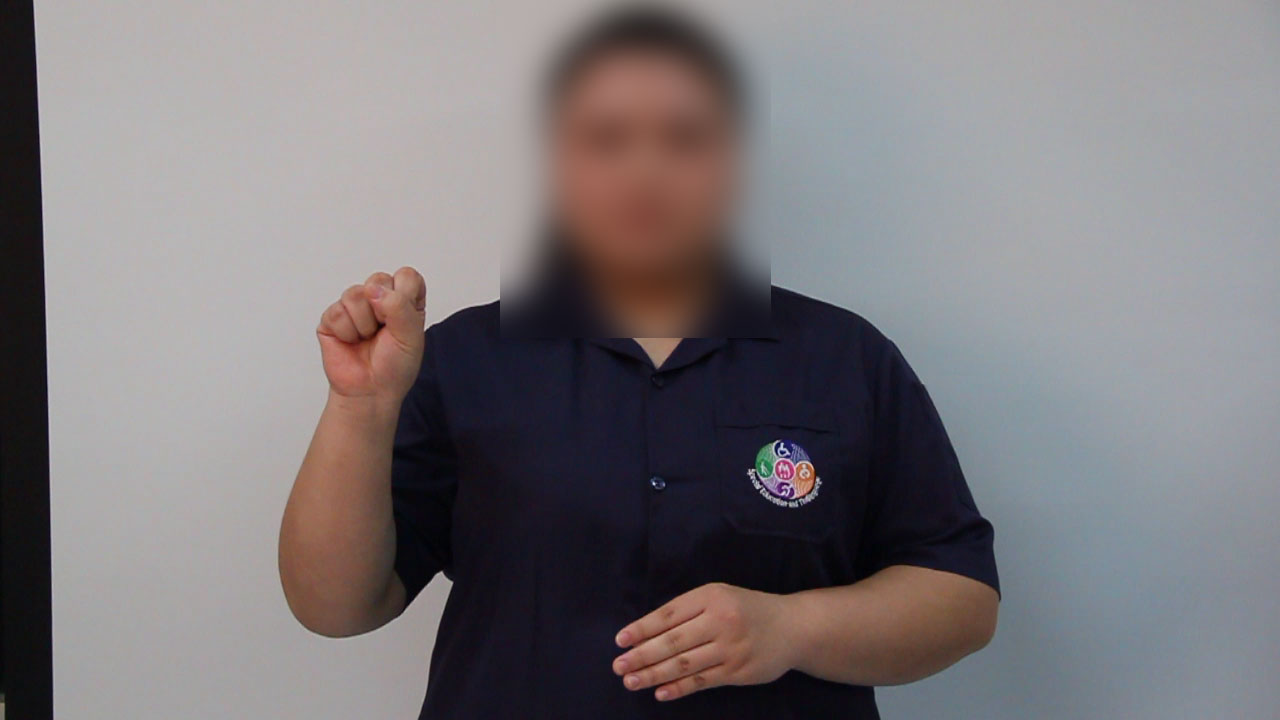sor: (298, 247, 445, 412)
